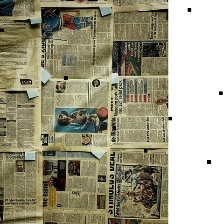news_paper: (108, 147, 183, 220), (40, 6, 112, 79), (40, 77, 111, 151), (110, 75, 177, 147), (42, 150, 107, 224), (110, 9, 169, 78), (0, 149, 43, 224), (0, 20, 41, 90), (0, 89, 42, 153), (0, 0, 40, 20), (112, 0, 172, 9), (40, 0, 113, 7), (108, 216, 170, 223)
